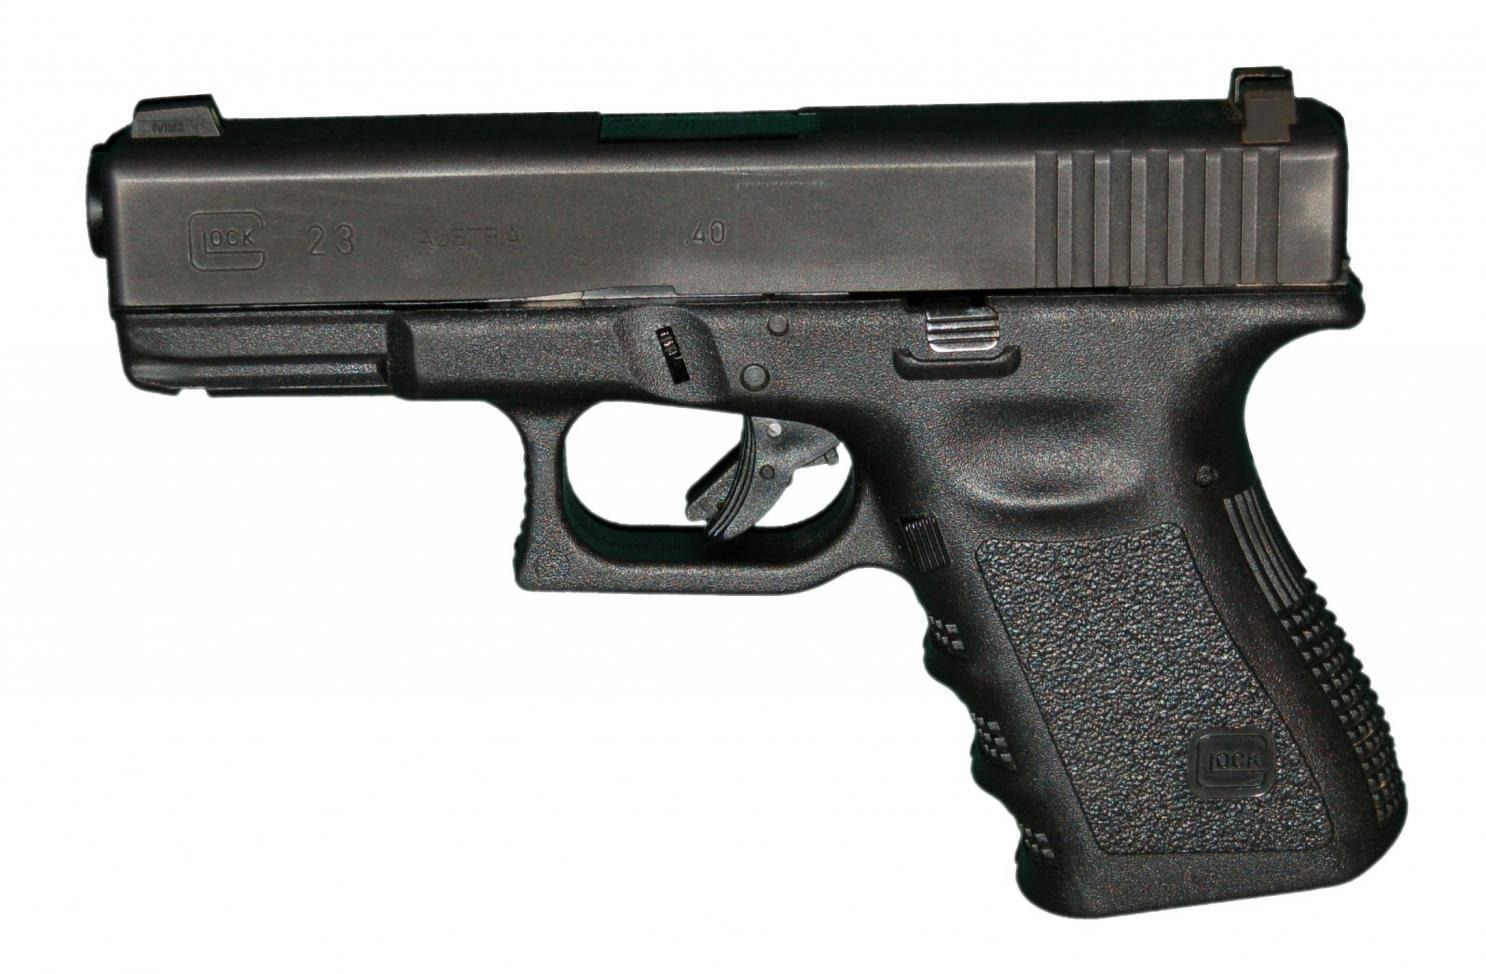gun: (73, 55, 1422, 925)
